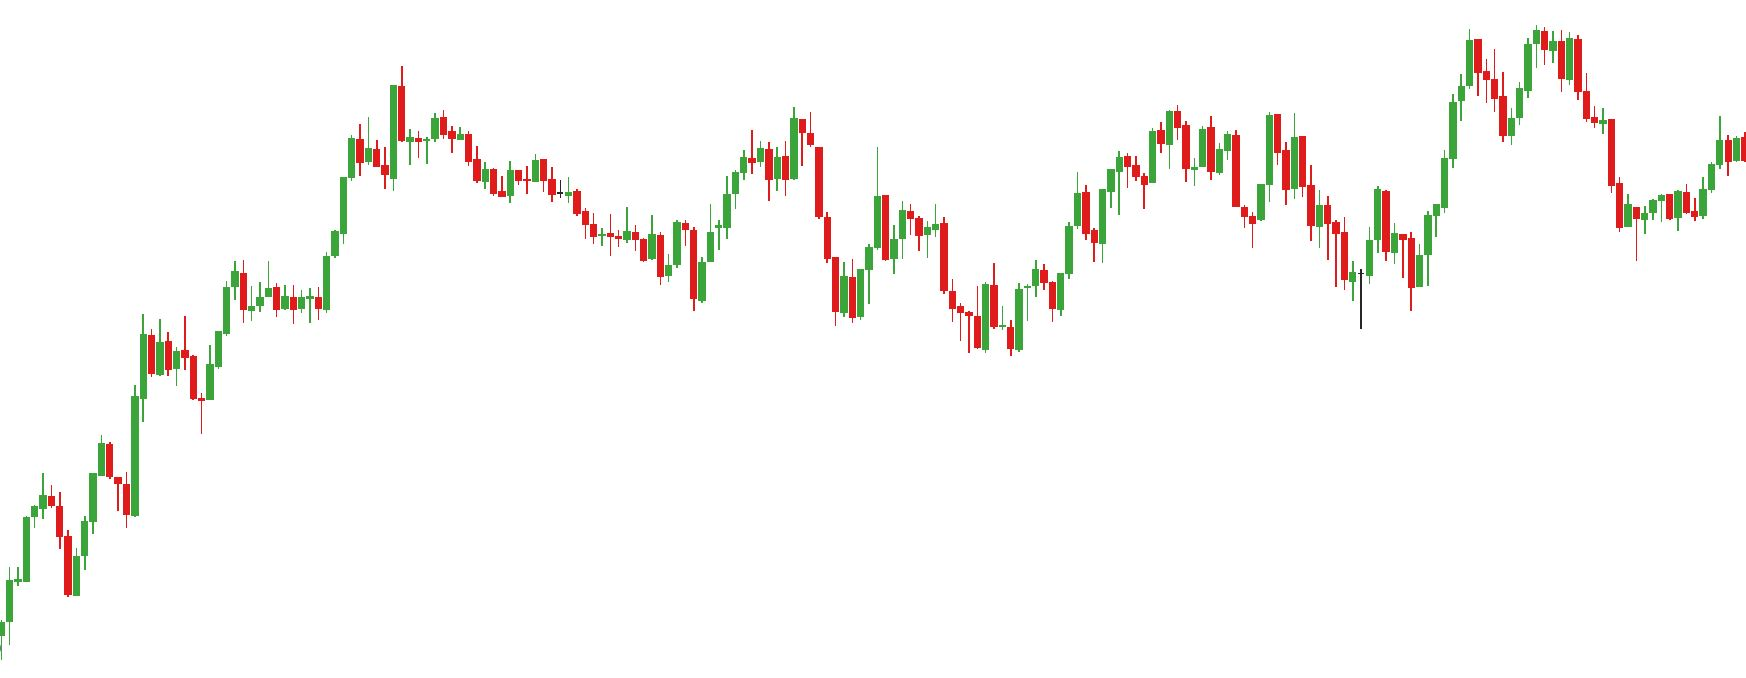buy: (138, 352, 216, 438), (653, 229, 709, 315), (963, 289, 1026, 362)
sell: (1463, 24, 1549, 110)
